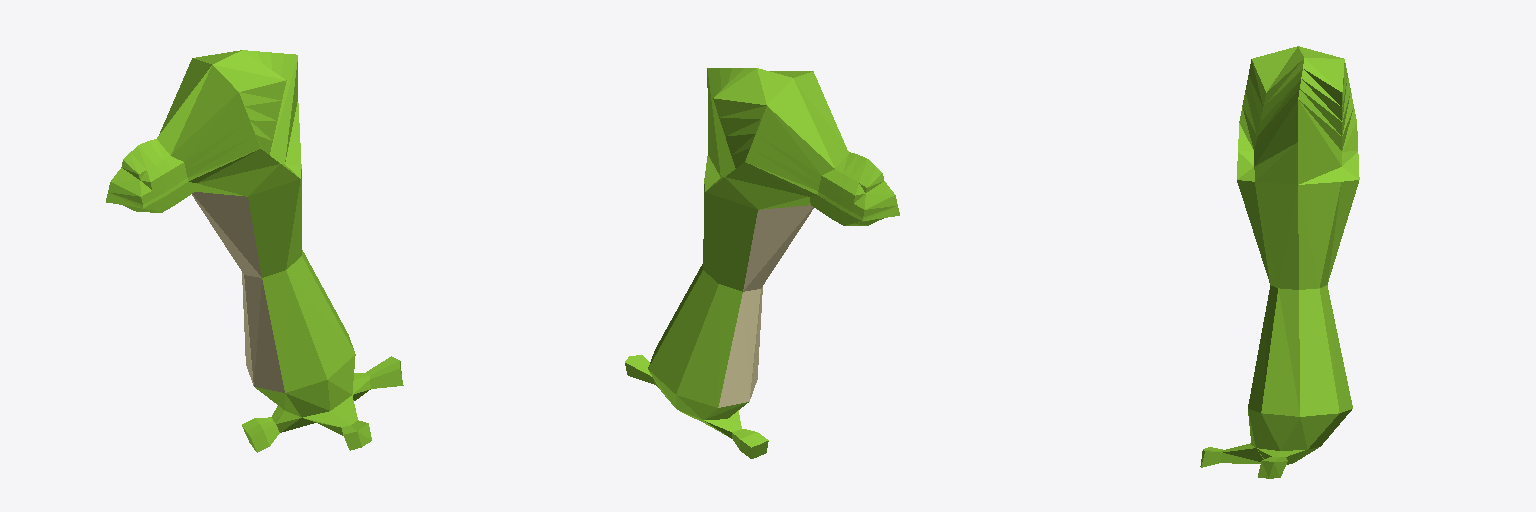
3 renders of one model, left to right at view 1: azimuth 30°, elevation 25°; view 2: azimuth 150°, elevation 25°; view 3: azimuth 270°, elevation 25°, orthographic.
Visible parts, largest first — view 1: lefthand; view 2: lefthand; view 3: lefthand.
Part boxes in pixels (bbox=[...]): lefthand: bbox=[106, 50, 403, 452]; lefthand: bbox=[625, 68, 899, 458]; lefthand: bbox=[1200, 46, 1359, 478].
Bounding box in the file's own units: 0.5165 × 0.6882 × 0.2518.
Materials: 1 (1 with a texture image).